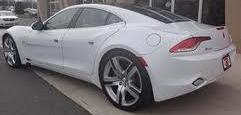back_view: (167, 26, 237, 94)
backlight: (163, 33, 220, 62)
side_glass: (34, 9, 131, 35)
